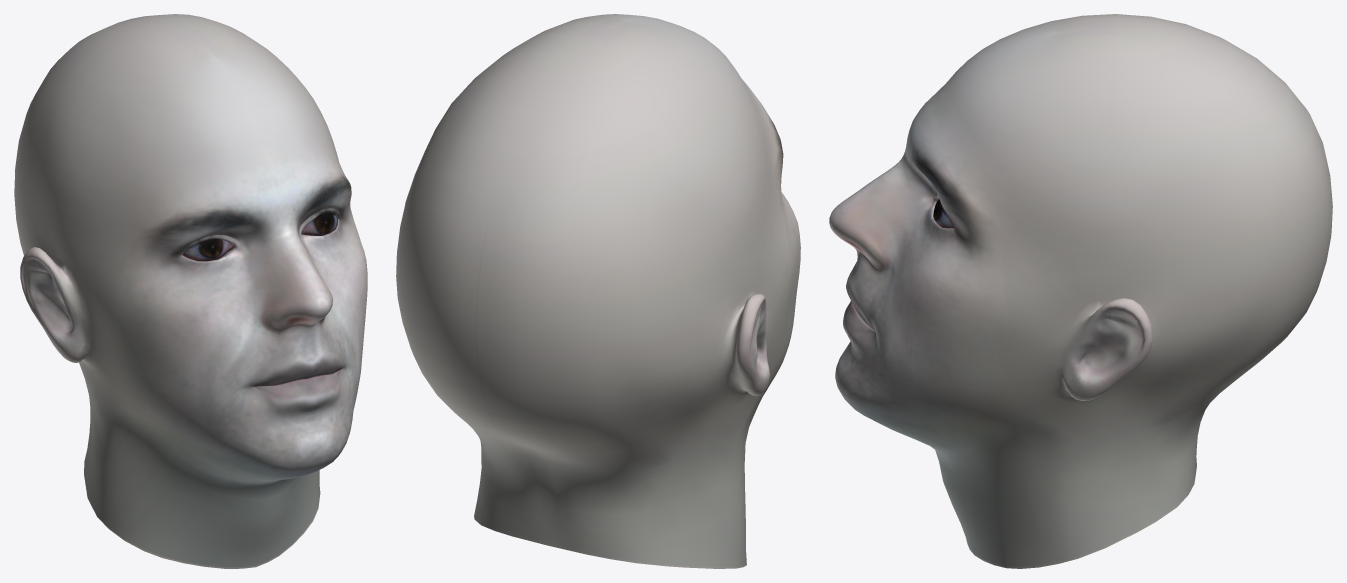
3 views of the same model, side by side, from view 1: azimuth 30°, elevation 25°; view 2: azimuth 150°, elevation 25°; view 3: azimuth 270°, elevation 25° (orthographic). The views are drawn at different scales.
Visible parts, largest first — view 1: skin_hi, eyeR_hi, eyeL_hi; view 2: skin_hi; view 3: skin_hi.
Part boxes in pixels (box(x1,y1,x2,y2)): skin_hi: box(14, 14, 367, 568); eyeR_hi: box(182, 239, 233, 261); eyeL_hi: box(301, 212, 337, 235); skin_hi: box(396, 14, 800, 568); skin_hi: box(829, 14, 1332, 568).
Size of the model in its own units: 182 by 278 by 246.
